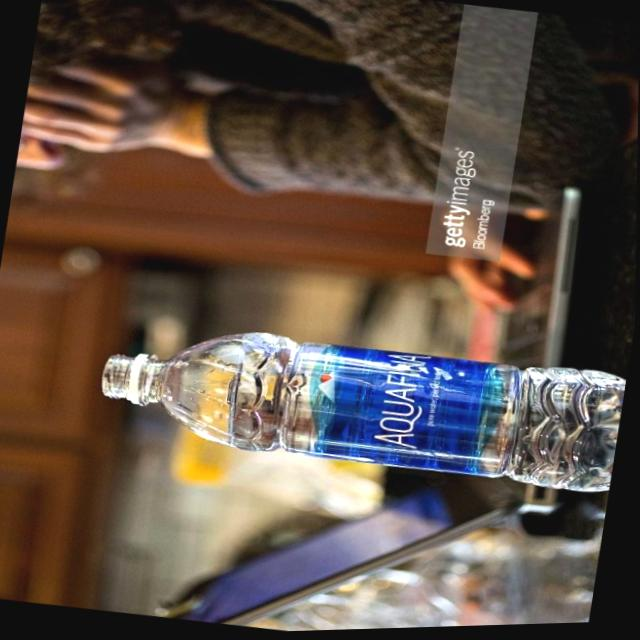anorganik: (67, 288, 631, 528)
